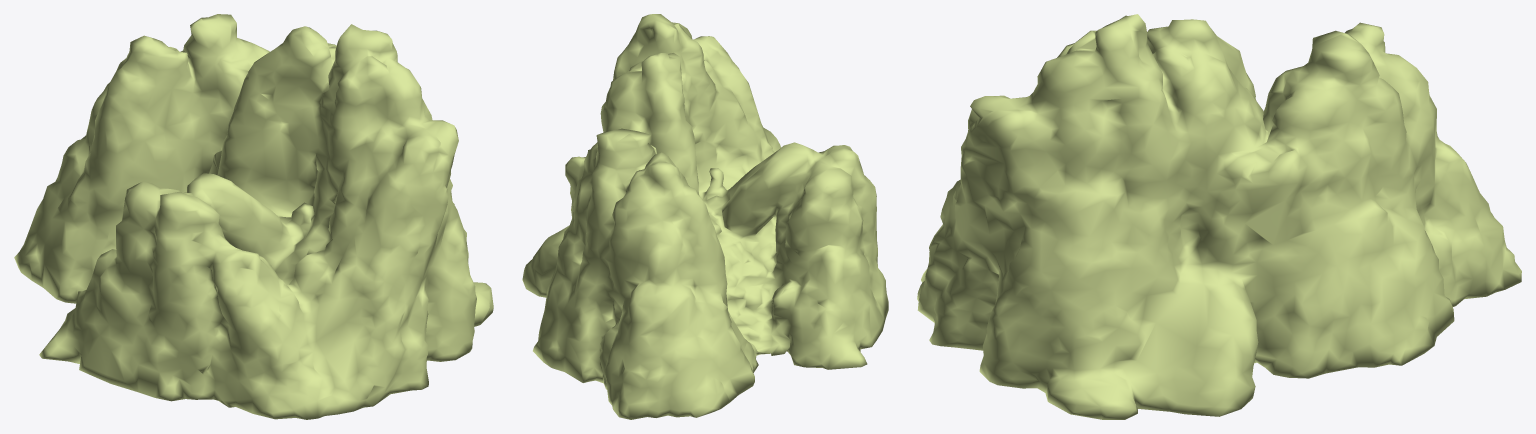
File: Piedra grande 2.fbx
The picture shows the model from 3 angles, left to right: view 1: azimuth 30°, elevation 25°; view 2: azimuth 150°, elevation 25°; view 3: azimuth 270°, elevation 25°; orthographic projection. The views are drawn at different scales.
Parts seen in each view (by area): view 1: Rock_Small005; view 2: Rock_Small005; view 3: Rock_Small005.
Boxes of the visible parts, left/top/right/bottom form: Rock_Small005: left=14, top=14, right=493, bottom=419; Rock_Small005: left=522, top=14, right=888, bottom=419; Rock_Small005: left=917, top=14, right=1521, bottom=419.
Size of the model in its own units: 29121 by 20576 by 33355.
